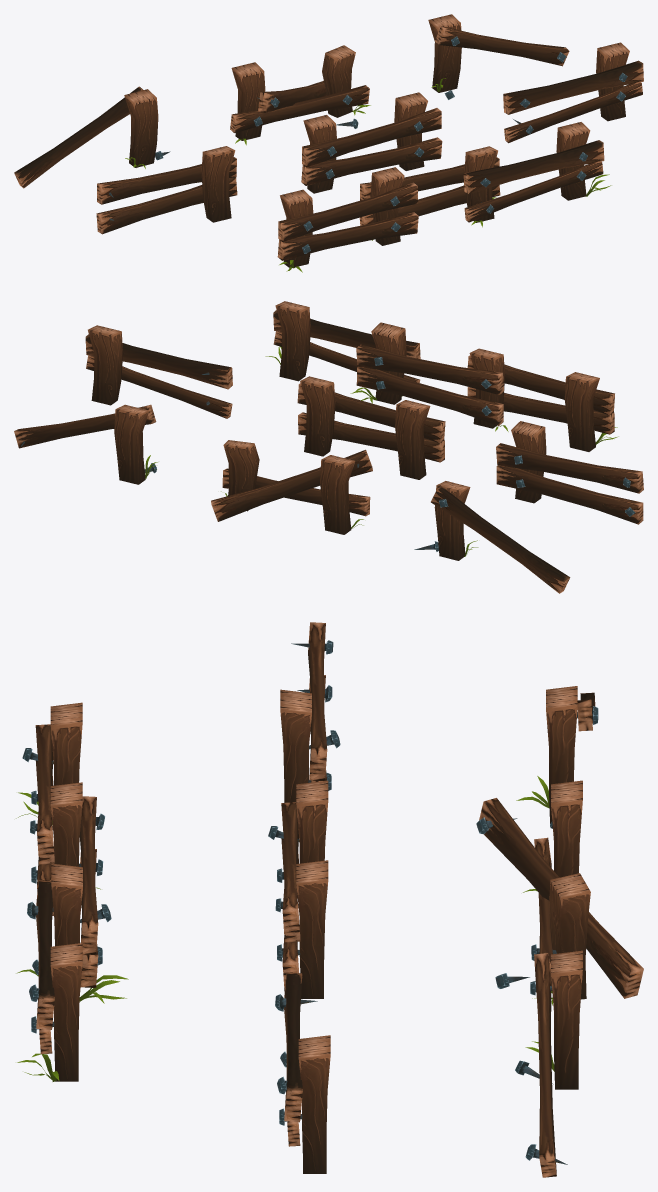
Rendered from fences.glb.
3 views of the same model, one above another, from view 1: azimuth 30°, elevation 25°; view 2: azimuth 150°, elevation 25°; view 3: azimuth 270°, elevation 25° (orthographic). The views are drawn at different scales.
Visible parts, largest first — view 1: ENV_Fence_ChainComplete_001, ENV_Fence_SingleComplete_001, ENv_Fence_SingleBroken_001, ENV_Fence_SingleHalfB_001, ENV_Fence_SingleHalfF_001, ENV_Fence_SingleHalfBrokenB_001, ENV_Fence_SingleHalfBrokenF_001; view 2: ENV_Fence_ChainComplete_001, ENV_Fence_SingleComplete_001, ENv_Fence_SingleBroken_001, ENV_Fence_SingleHalfB_001, ENV_Fence_SingleHalfF_001, ENV_Fence_SingleHalfBrokenB_001, ENV_Fence_SingleHalfBrokenF_001; view 3: ENV_Fence_ChainComplete_001, ENv_Fence_SingleBroken_001, ENV_Fence_SingleComplete_001, ENV_Fence_SingleHalfBrokenF_001, ENV_Fence_SingleHalfF_001, ENV_Fence_SingleHalfB_001, ENV_Fence_SingleHalfBrokenB_001.
Part boxes in pixels (left/top/right/bottom): ENV_Fence_ChainComplete_001: left=277, top=122, right=604, bottom=267; ENV_Fence_SingleComplete_001: left=301, top=92, right=442, bottom=193; ENv_Fence_SingleBroken_001: left=230, top=45, right=369, bottom=140; ENV_Fence_SingleHalfB_001: left=96, top=146, right=237, bottom=234; ENV_Fence_SingleHalfF_001: left=503, top=42, right=643, bottom=143; ENV_Fence_SingleHalfBrokenB_001: left=14, top=86, right=170, bottom=188; ENV_Fence_SingleHalfBrokenF_001: left=428, top=14, right=569, bottom=99; ENV_Fence_ChainComplete_001: left=273, top=301, right=614, bottom=451; ENV_Fence_SingleComplete_001: left=297, top=376, right=445, bottom=479; ENv_Fence_SingleBroken_001: left=211, top=440, right=372, bottom=534; ENV_Fence_SingleHalfB_001: left=496, top=421, right=643, bottom=524; ENV_Fence_SingleHalfF_001: left=85, top=325, right=232, bottom=418; ENV_Fence_SingleHalfBrokenB_001: left=414, top=481, right=570, bottom=593; ENV_Fence_SingleHalfBrokenF_001: left=14, top=404, right=156, bottom=484; ENV_Fence_ChainComplete_001: left=22, top=702, right=111, bottom=1081; ENv_Fence_SingleBroken_001: left=476, top=780, right=643, bottom=999; ENV_Fence_SingleComplete_001: left=268, top=780, right=328, bottom=998; ENV_Fence_SingleHalfBrokenF_001: left=515, top=950, right=582, bottom=1177; ENV_Fence_SingleHalfF_001: left=275, top=972, right=330, bottom=1173; ENV_Fence_SingleHalfB_001: left=280, top=622, right=340, bottom=802; ENV_Fence_SingleHalfBrokenB_001: left=546, top=686, right=598, bottom=828.
Bounding box in the file's own units: 685 × 86.16 × 389.
Materials: 2 (2 with a texture image).
